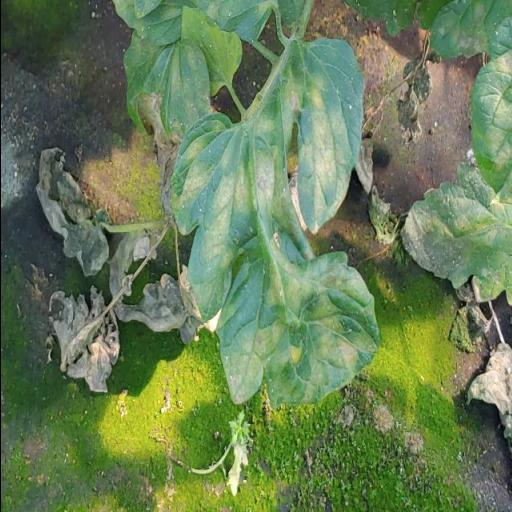disease_tomato: (168, 38, 380, 410), (395, 169, 512, 308)
